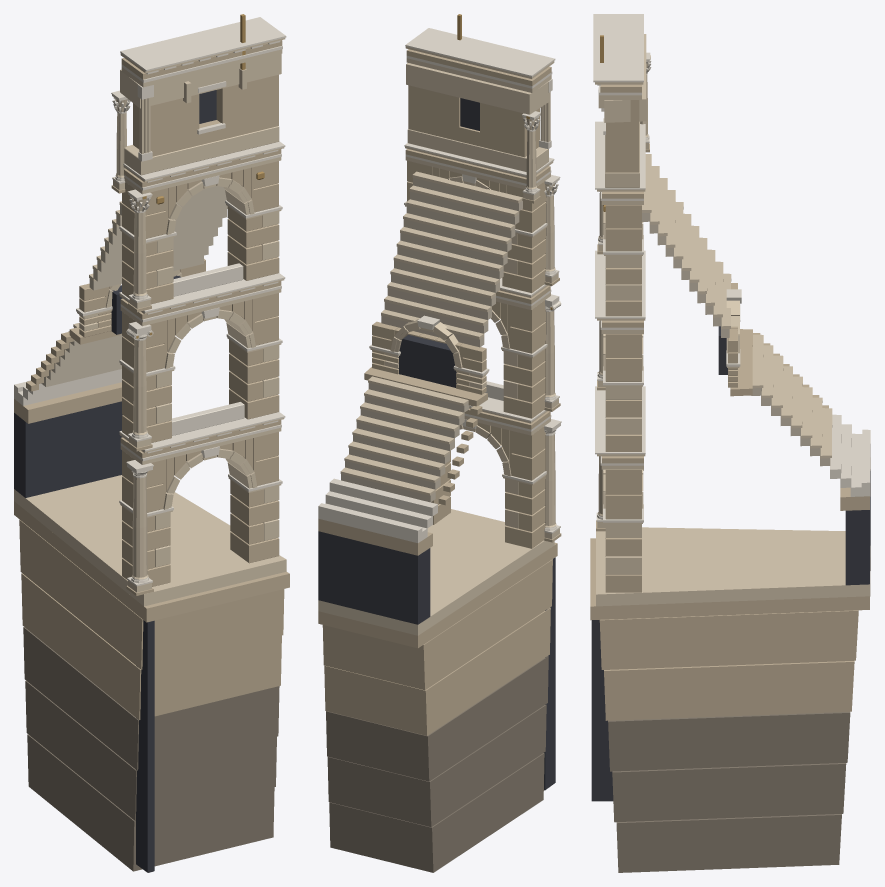
The model's file is UMOD_03_Vomitorium_Cavea_Bay.glb.
The picture shows the model from 3 angles, left to right: view 1: azimuth 30°, elevation 25°; view 2: azimuth 150°, elevation 25°; view 3: azimuth 270°, elevation 25°; orthographic projection. The views are drawn at different scales.
Visible parts, largest first — view 1: UMOD_03_Vomitorium_Cavea_Bay; view 2: UMOD_03_Vomitorium_Cavea_Bay; view 3: UMOD_03_Vomitorium_Cavea_Bay.
Part boxes in pixels (left/top/right/bottom): UMOD_03_Vomitorium_Cavea_Bay: left=14, top=14, right=289, bottom=872; UMOD_03_Vomitorium_Cavea_Bay: left=318, top=14, right=561, bottom=872; UMOD_03_Vomitorium_Cavea_Bay: left=590, top=14, right=870, bottom=872.
Bounding box in the file's own units: 18.31 × 96.54 × 29.97.
